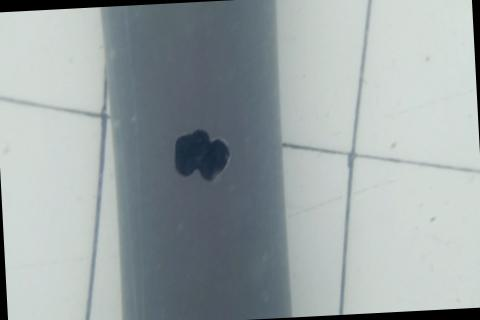kebocoran: (170, 123, 233, 187)
